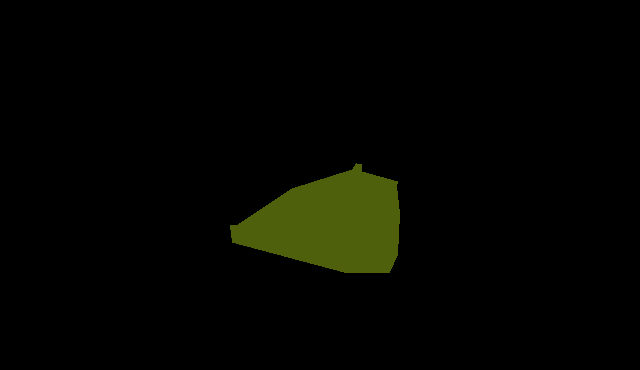Train: (230, 163, 399, 273)
